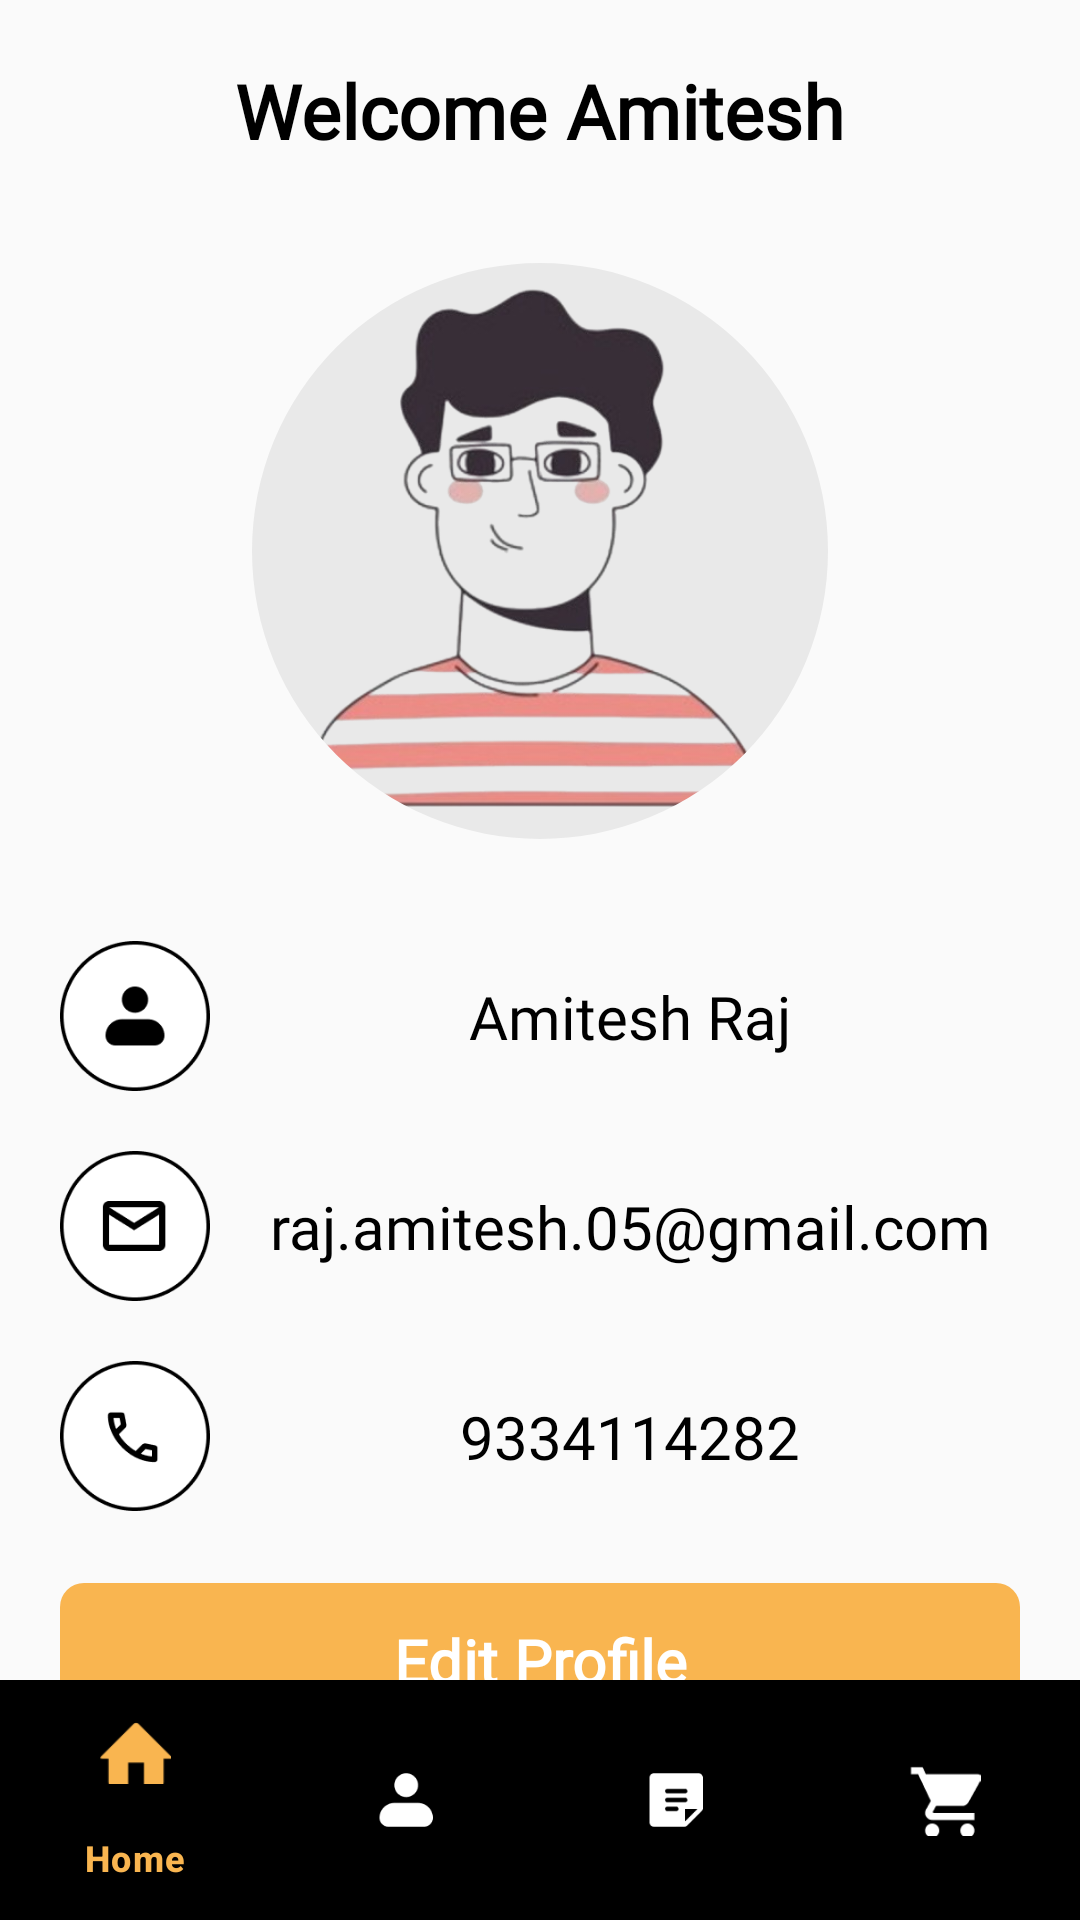

Locate icon controls on the screen. Image size 1080×1920, boxes as bbox(x1, y1, x2, y2).
email: bbox(60, 1151, 210, 1301)
people: bbox(60, 941, 210, 1091)
phone: bbox(60, 1361, 210, 1511)
